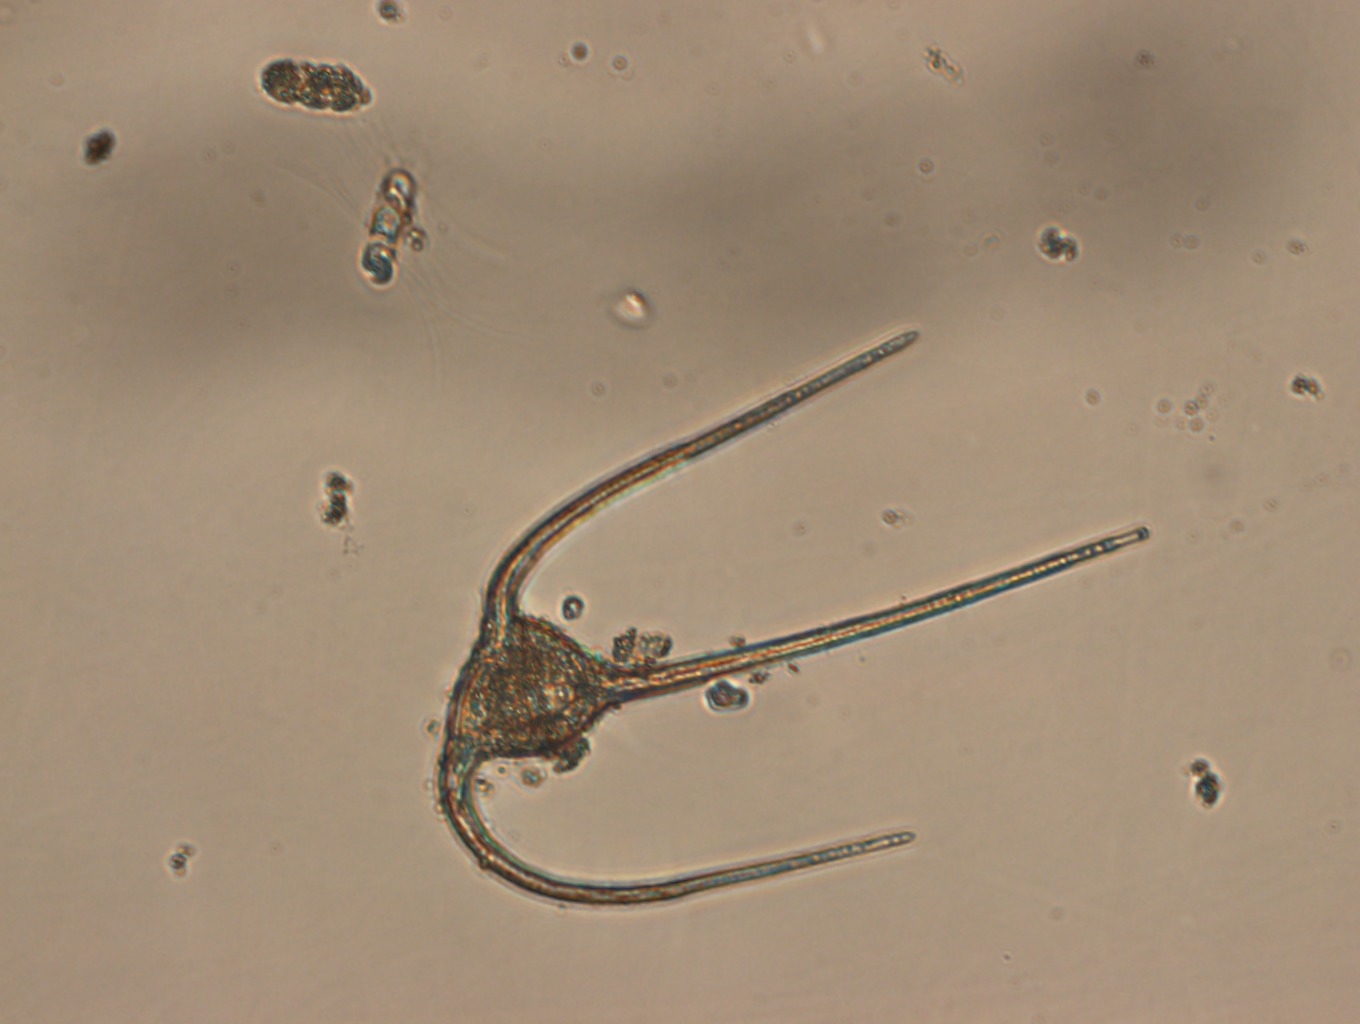ceratium trichoceros: (423, 313, 1164, 913)
